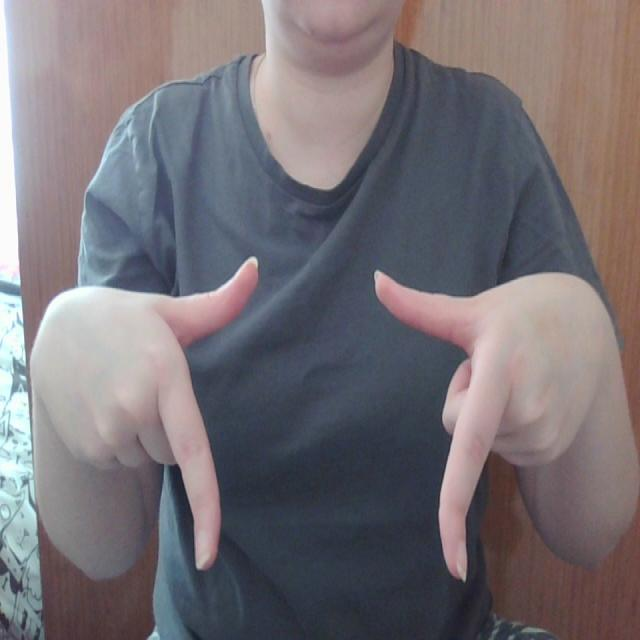Nerede: (145, 248, 518, 593)
